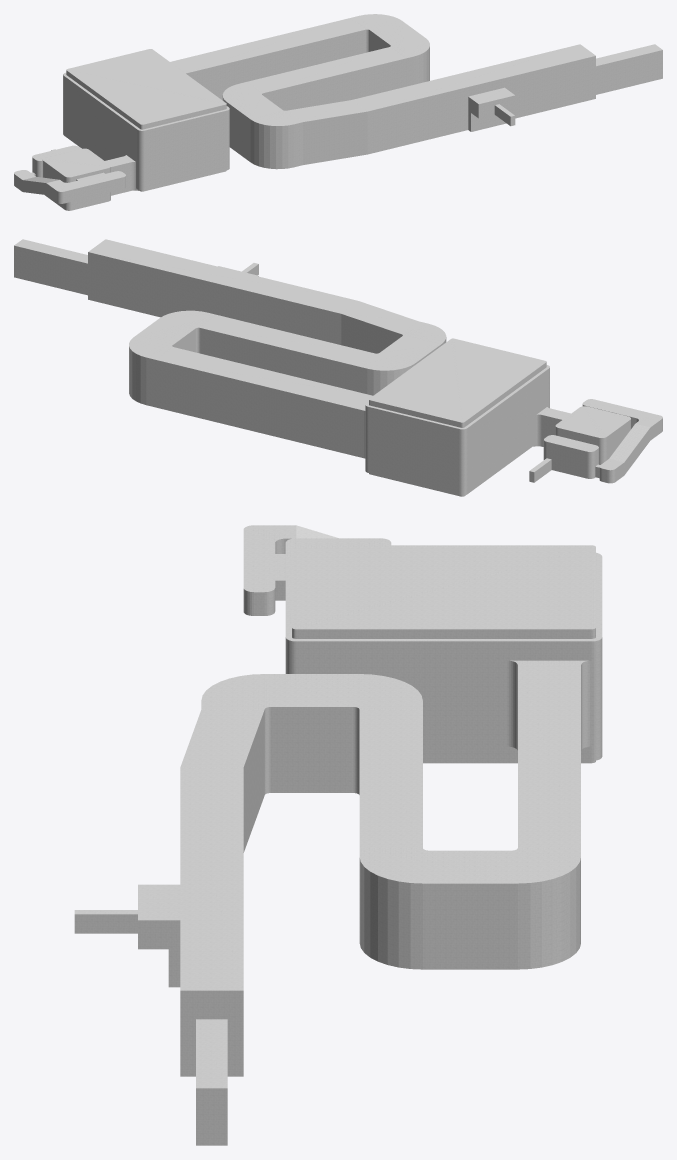
Rendered from Level4.fbx.
3 renders of one model, top to bottom at view 1: azimuth 30°, elevation 25°; view 2: azimuth 150°, elevation 25°; view 3: azimuth 270°, elevation 25°, orthographic. The views are drawn at different scales.
Visible parts, largest first — view 1: Cylinder.007; view 2: Cylinder.007; view 3: Cylinder.007.
Part boxes in pixels (bbox=[...]): Cylinder.007: bbox=[14, 14, 662, 210]; Cylinder.007: bbox=[14, 239, 662, 496]; Cylinder.007: bbox=[74, 525, 602, 1145].
Bounding box in the file's own units: 12950 × 1400 × 5000.
